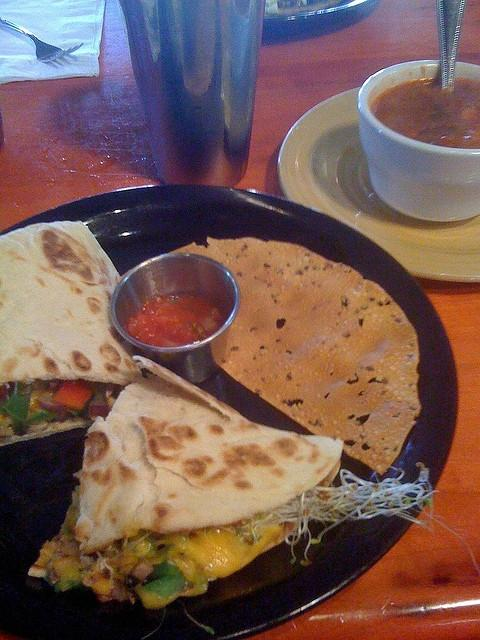tomato: (52, 380, 93, 411)
